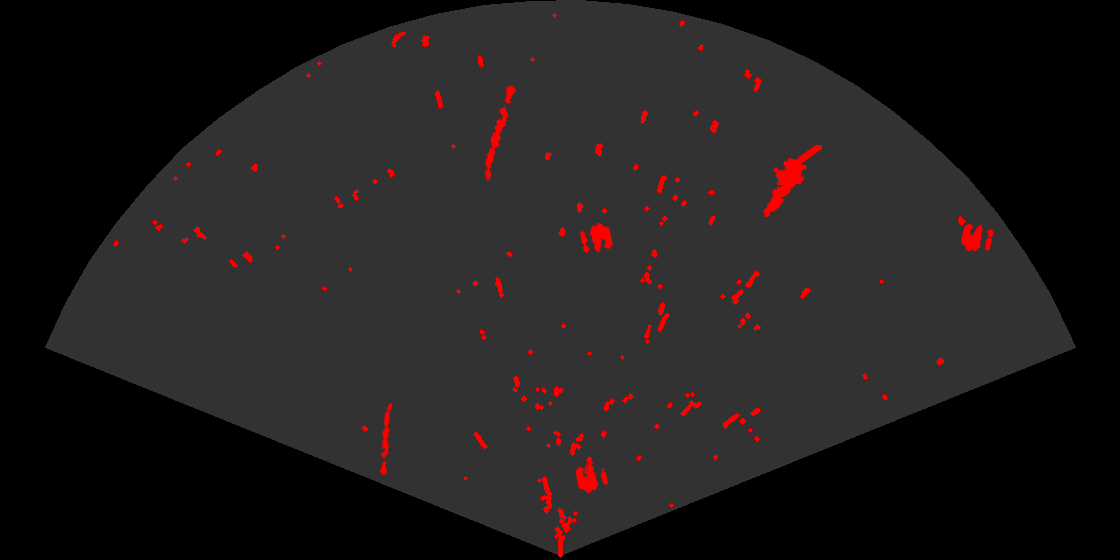ball: (578, 221, 614, 255), (574, 462, 610, 495), (959, 221, 995, 253)
chain: (483, 83, 518, 182), (378, 401, 394, 475)
frogman: (762, 145, 822, 219)
